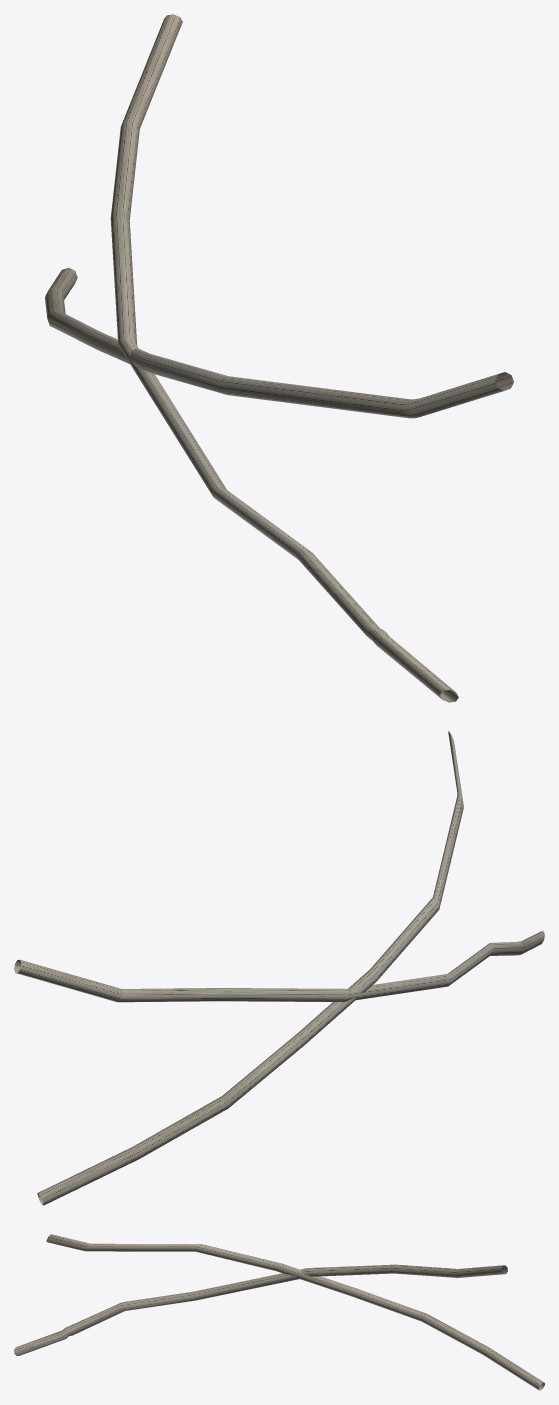
Rendered from sphere.008_lev3.glb.
3 views of the same model, one above another, from view 1: azimuth 30°, elevation 25°; view 2: azimuth 150°, elevation 25°; view 3: azimuth 270°, elevation 25° (orthographic). The views are drawn at different scales.
Parts seen in each view (by area): view 1: sphere.008_lev3; view 2: sphere.008_lev3; view 3: sphere.008_lev3.
Part boxes in pixels (box(x1,y1,x2,y2)): sphere.008_lev3: box(45, 14, 513, 702); sphere.008_lev3: box(14, 731, 544, 1205); sphere.008_lev3: box(14, 1234, 544, 1390).
Bounding box in the file's own units: 0.4095 × 0.4049 × 1.36.
1 material, 1 textured.
